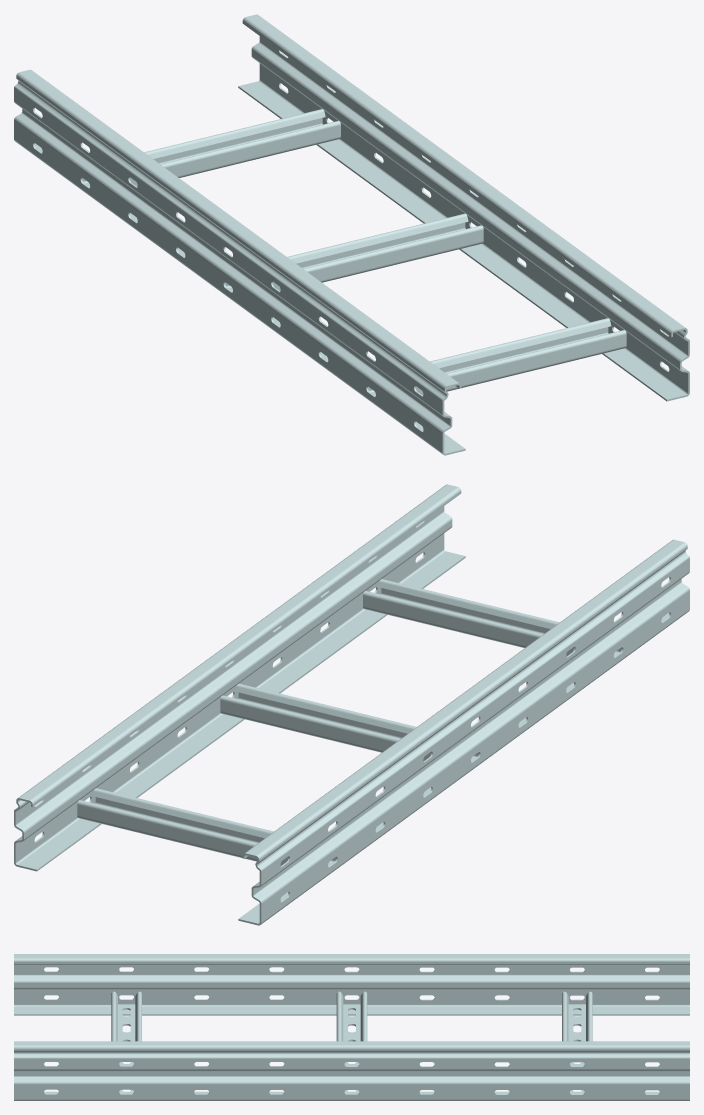
The model's file is model5 strengthened ladder tray 300x80.glb.
3 renders of one model, top to bottom at view 1: azimuth 30°, elevation 25°; view 2: azimuth 150°, elevation 25°; view 3: azimuth 270°, elevation 25°, orthographic. The views are drawn at different scales.
Parts seen in each view (by area): view 1: 80 round corners лотки усиленные_recover; view 2: 80 round corners лотки усиленные_recover; view 3: 80 round corners лотки усиленные_recover.
Part boxes in pixels (box(x1,y1,x2,y2)): 80 round corners лотки усиленные_recover: box(14, 14, 689, 455); 80 round corners лотки усиленные_recover: box(14, 484, 689, 925); 80 round corners лотки усиленные_recover: box(14, 954, 689, 1100).
Size of the model in its own units: 2.38 by 0.6344 by 7.14.
